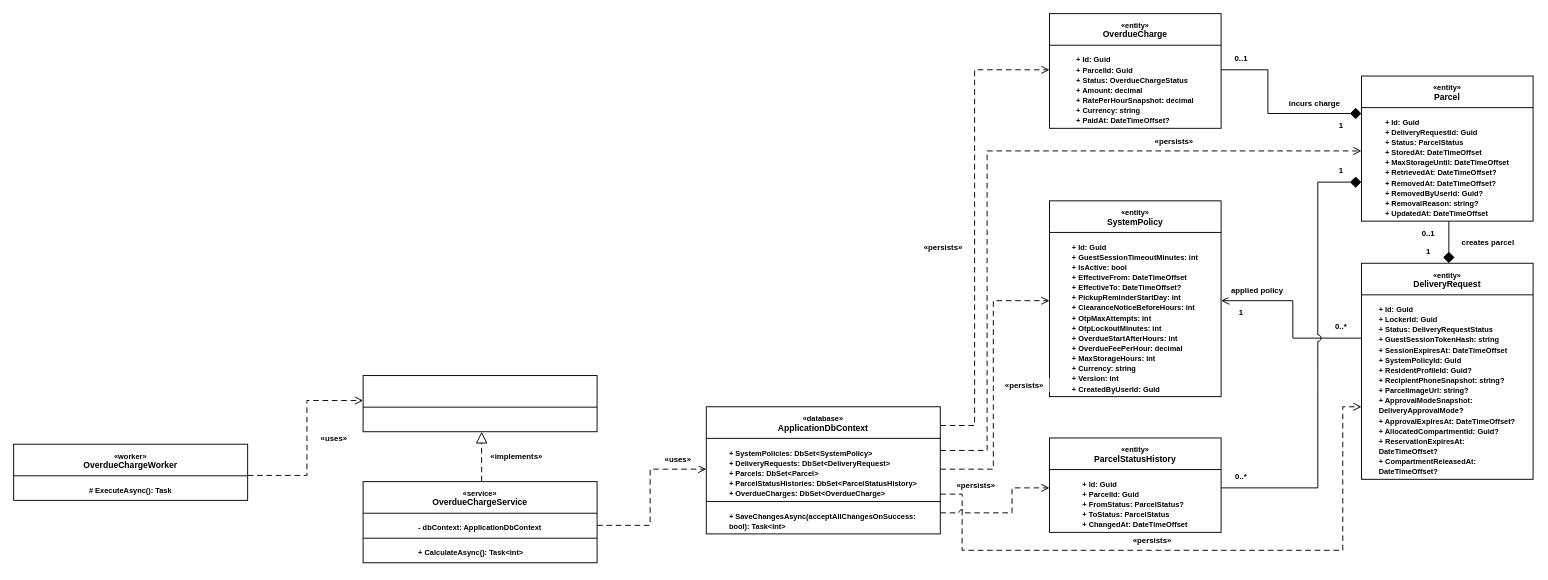
Some shapes in this 1548 by 580 pixel diagram are drawn without their labels. The shapes that lost their labels are listed below. From the top down, each one's box as (x1, y1, x2, y2) in pixels, then its label:
(1223, 373, 1317, 388): records status history
(362, 375, 597, 432): «interface» IOverdueChargeService + CalculateAsync(): Task<int>
